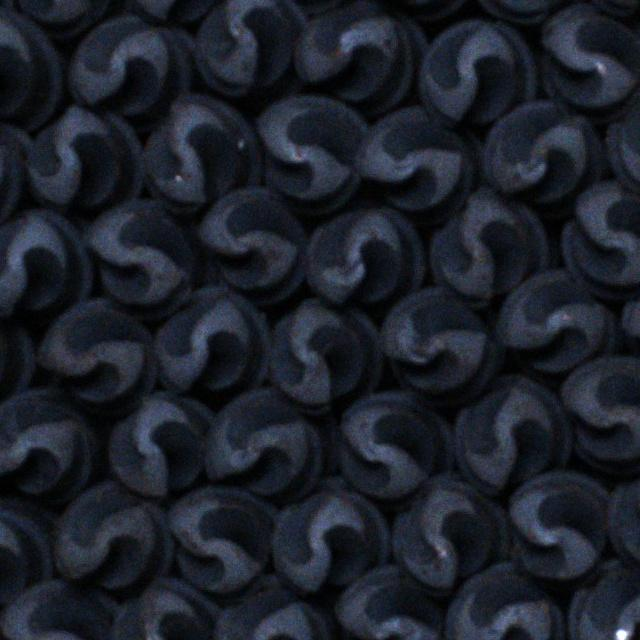tool_b: (295, 0, 427, 113), (69, 15, 196, 132), (79, 197, 205, 314), (429, 186, 551, 304), (358, 106, 482, 222), (454, 374, 575, 492), (143, 94, 264, 212), (377, 288, 499, 405), (481, 100, 604, 215), (270, 479, 390, 595), (394, 473, 511, 591), (38, 300, 158, 414), (252, 95, 367, 213), (195, 185, 309, 303), (54, 479, 176, 589), (204, 390, 325, 500), (333, 390, 452, 501), (153, 287, 271, 396), (493, 271, 615, 376), (270, 299, 385, 410), (418, 19, 536, 126), (25, 106, 143, 212), (301, 204, 422, 305), (163, 488, 275, 595), (539, 4, 640, 122), (506, 469, 611, 579), (193, 0, 310, 98), (110, 391, 218, 497), (0, 387, 94, 499), (0, 211, 91, 320), (560, 353, 640, 473), (442, 564, 564, 640), (561, 181, 640, 298), (334, 566, 446, 640), (213, 576, 339, 640), (0, 5, 61, 132), (0, 580, 119, 640), (112, 579, 224, 640), (0, 498, 56, 606), (568, 557, 640, 638), (3, 0, 130, 37), (604, 82, 640, 200), (607, 454, 640, 580), (0, 293, 35, 409), (0, 117, 32, 238), (470, 0, 590, 22), (121, 1, 244, 22), (360, 0, 480, 20), (618, 268, 640, 375)
